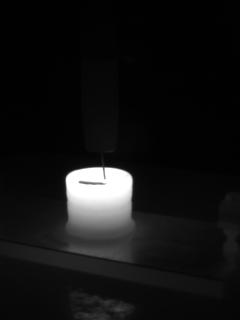tip_wire_left: (84, 146, 106, 182)
tip_wire_right: (104, 144, 117, 182)
